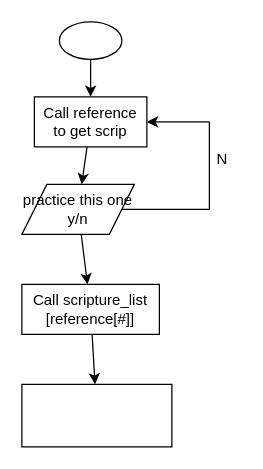
The diagram is 263 pixels wide and 469 high, and some of its shapes have lost their labels. Here are the shapes that lost their labels. From the top down, the centre of each, then its label:
At point (90, 40): "Start Main".
At point (96, 415): "Print scripture".
